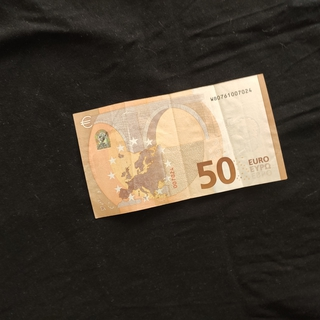50EUROBack: (71, 71, 289, 220)
